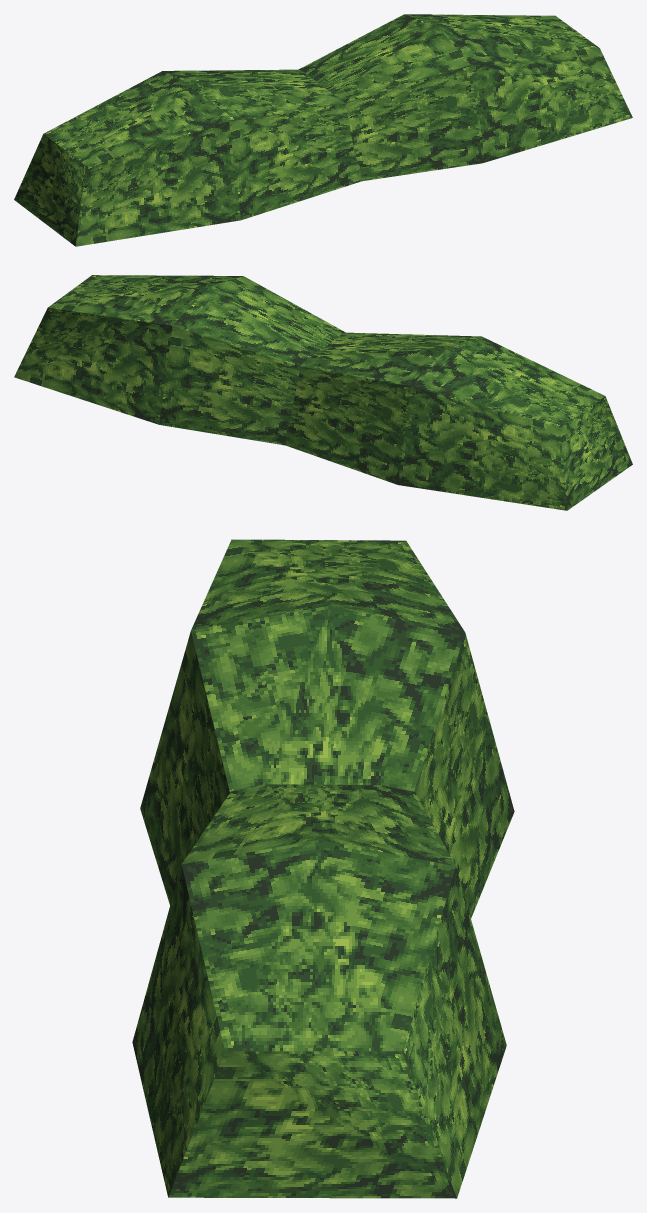
Rendered from hedgeunit_shape.fbx.
3 views of the same model, one above another, from view 1: azimuth 30°, elevation 25°; view 2: azimuth 150°, elevation 25°; view 3: azimuth 270°, elevation 25° (orthographic). The views are drawn at different scales.
Visible parts, largest first — view 1: l1_hedgeunit_Shape; view 2: l1_hedgeunit_Shape; view 3: l1_hedgeunit_Shape.
Boxes of the visible parts, x1,y1,x2,y2 form: l1_hedgeunit_Shape: (14, 14, 632, 246); l1_hedgeunit_Shape: (14, 275, 632, 510); l1_hedgeunit_Shape: (132, 539, 514, 1198).
Size of the model in its own units: 575 by 102 by 173.
